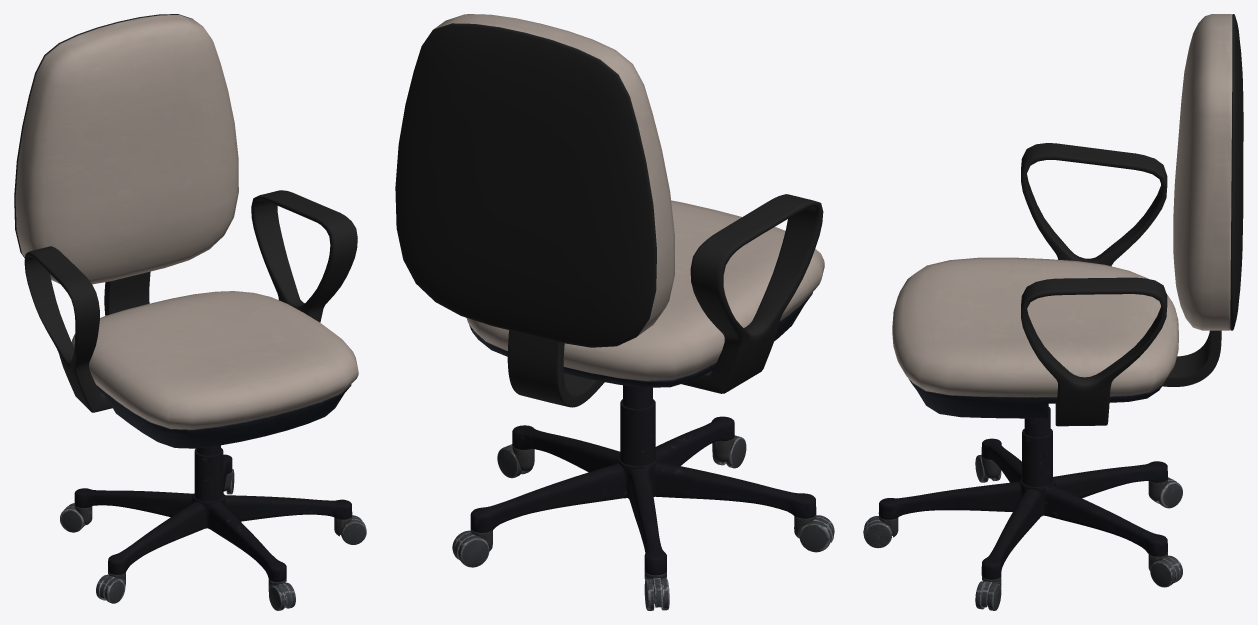
Rendered from office_chair_projectkaizen.glb.
3 renders of one model, left to right at view 1: azimuth 30°, elevation 25°; view 2: azimuth 150°, elevation 25°; view 3: azimuth 270°, elevation 25°, orthographic. The views are drawn at different scales.
Parts seen in each view (by area): view 1: Object_4, Object_22, Object_6, Object_12, Object_18, Object_14, Object_10, Object_8, Object_20; view 2: Object_8, Object_4, Object_6, Object_22, Object_10, Object_18, Object_14, Object_12, Object_20; view 3: Object_4, Object_22, Object_6, Object_8, Object_12, Object_18, Object_14, Object_10, Object_20.
Boxes of the visible parts, x1,y1,x2,y2 form: Object_4: (15,15,358,429); Object_22: (24,190,357,412); Object_6: (74,454,352,581); Object_12: (96,384,351,448); Object_18: (60,469,366,610); Object_14: (194,445,223,501); Object_10: (104,271,150,315); Object_8: (14,14,193,258); Object_20: (74,471,352,588); Object_8: (395,23,656,347); Object_4: (434,14,824,380); Object_6: (470,416,816,575); Object_22: (466,194,823,393); Object_10: (507,330,604,407); Object_18: (452,435,834,610); Object_14: (620,385,655,465); Object_12: (472,292,812,387); Object_20: (470,437,816,578); Object_4: (892,14,1232,396); Object_22: (1021,143,1167,426); Object_6: (878,438,1167,579); Object_8: (1230,14,1243,330); Object_12: (909,377,1167,418); Object_18: (863,454,1182,610); Object_14: (1022,407,1052,486); Object_10: (1162,330,1221,386); Object_20: (879,457,1167,583).
Size of the model in its own units: 1.28 by 2 by 1.36.
10 materials, 7 textured.
